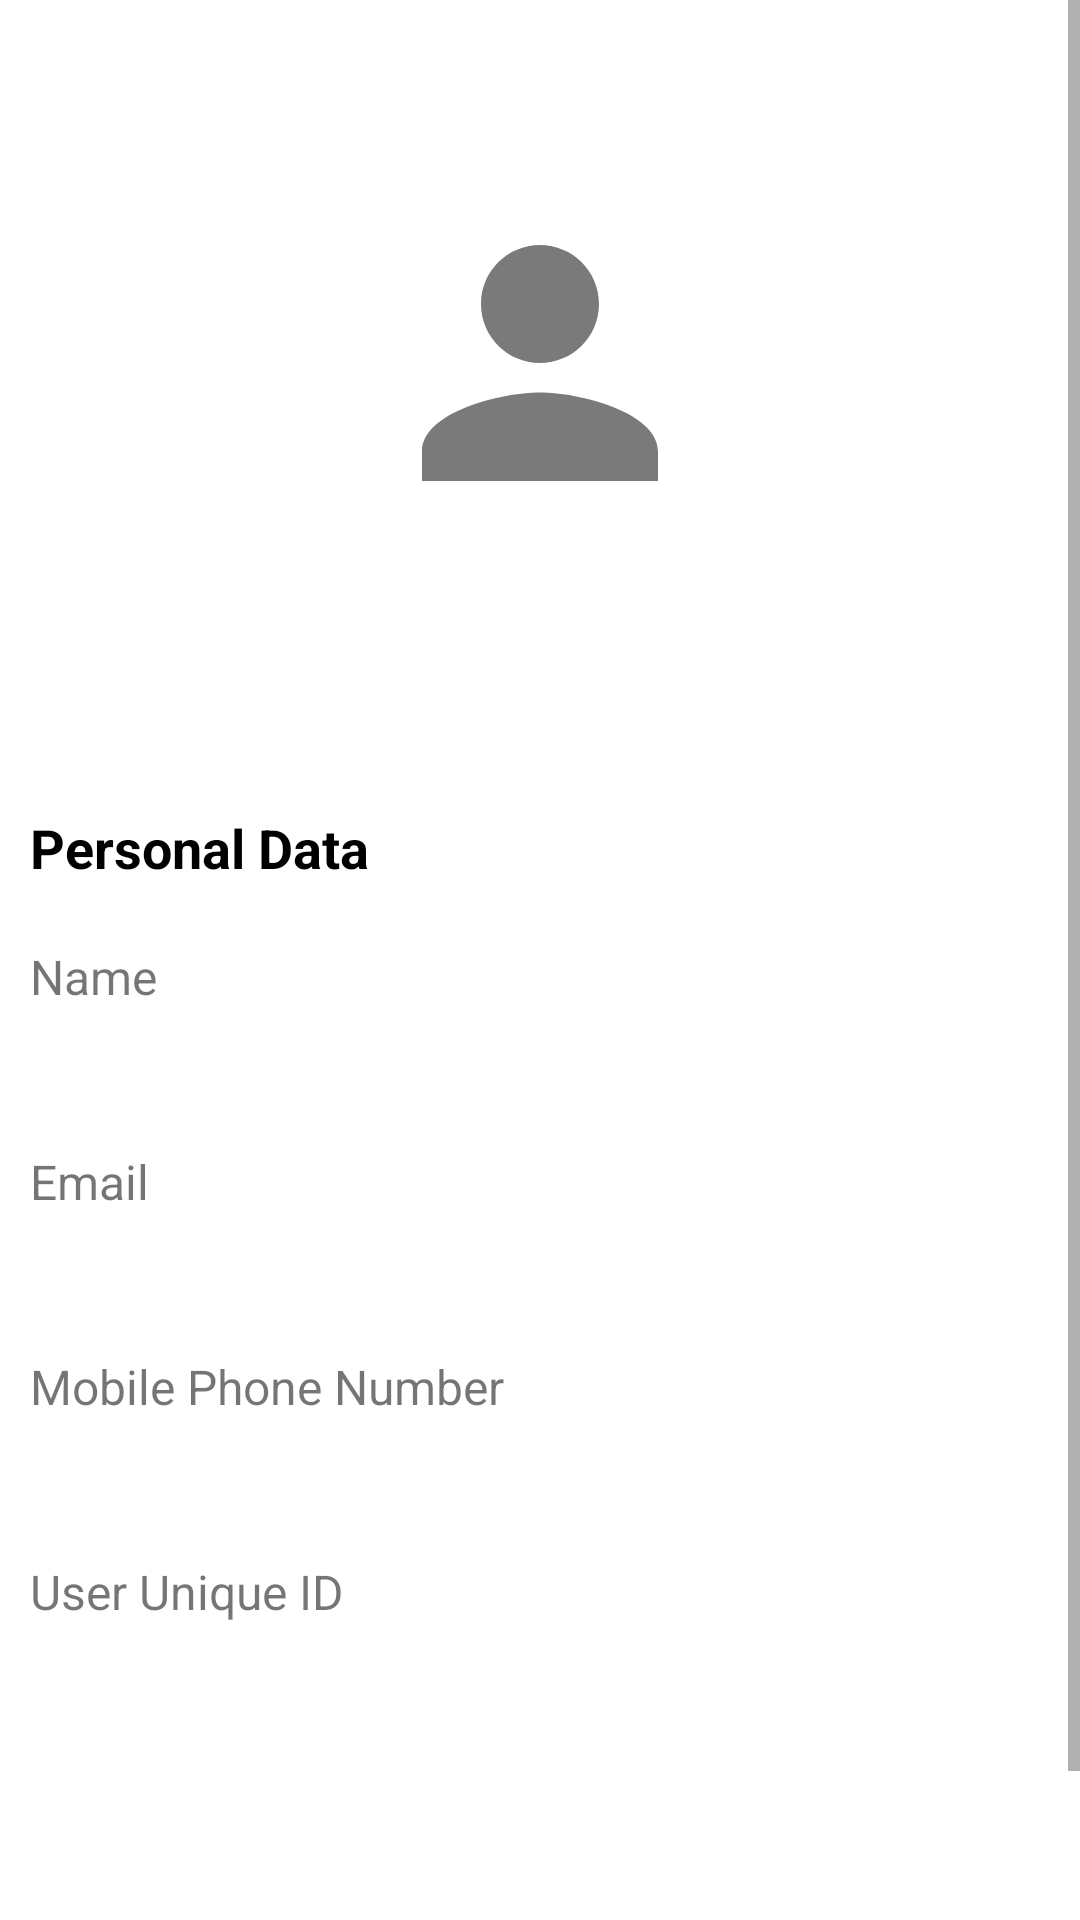

Icon bounding boxes for this 1080 × 1920 phone screenshot, format bbox(x1, y1, x2, y2):
User Profile Picture: bbox(422, 245, 658, 481)
